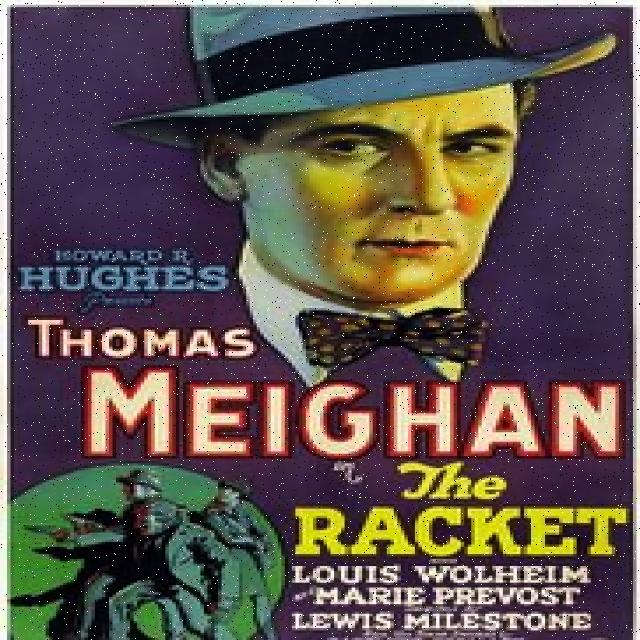movie-judul: (292, 461, 637, 568)
picture: (123, 16, 578, 367), (32, 480, 276, 636)
